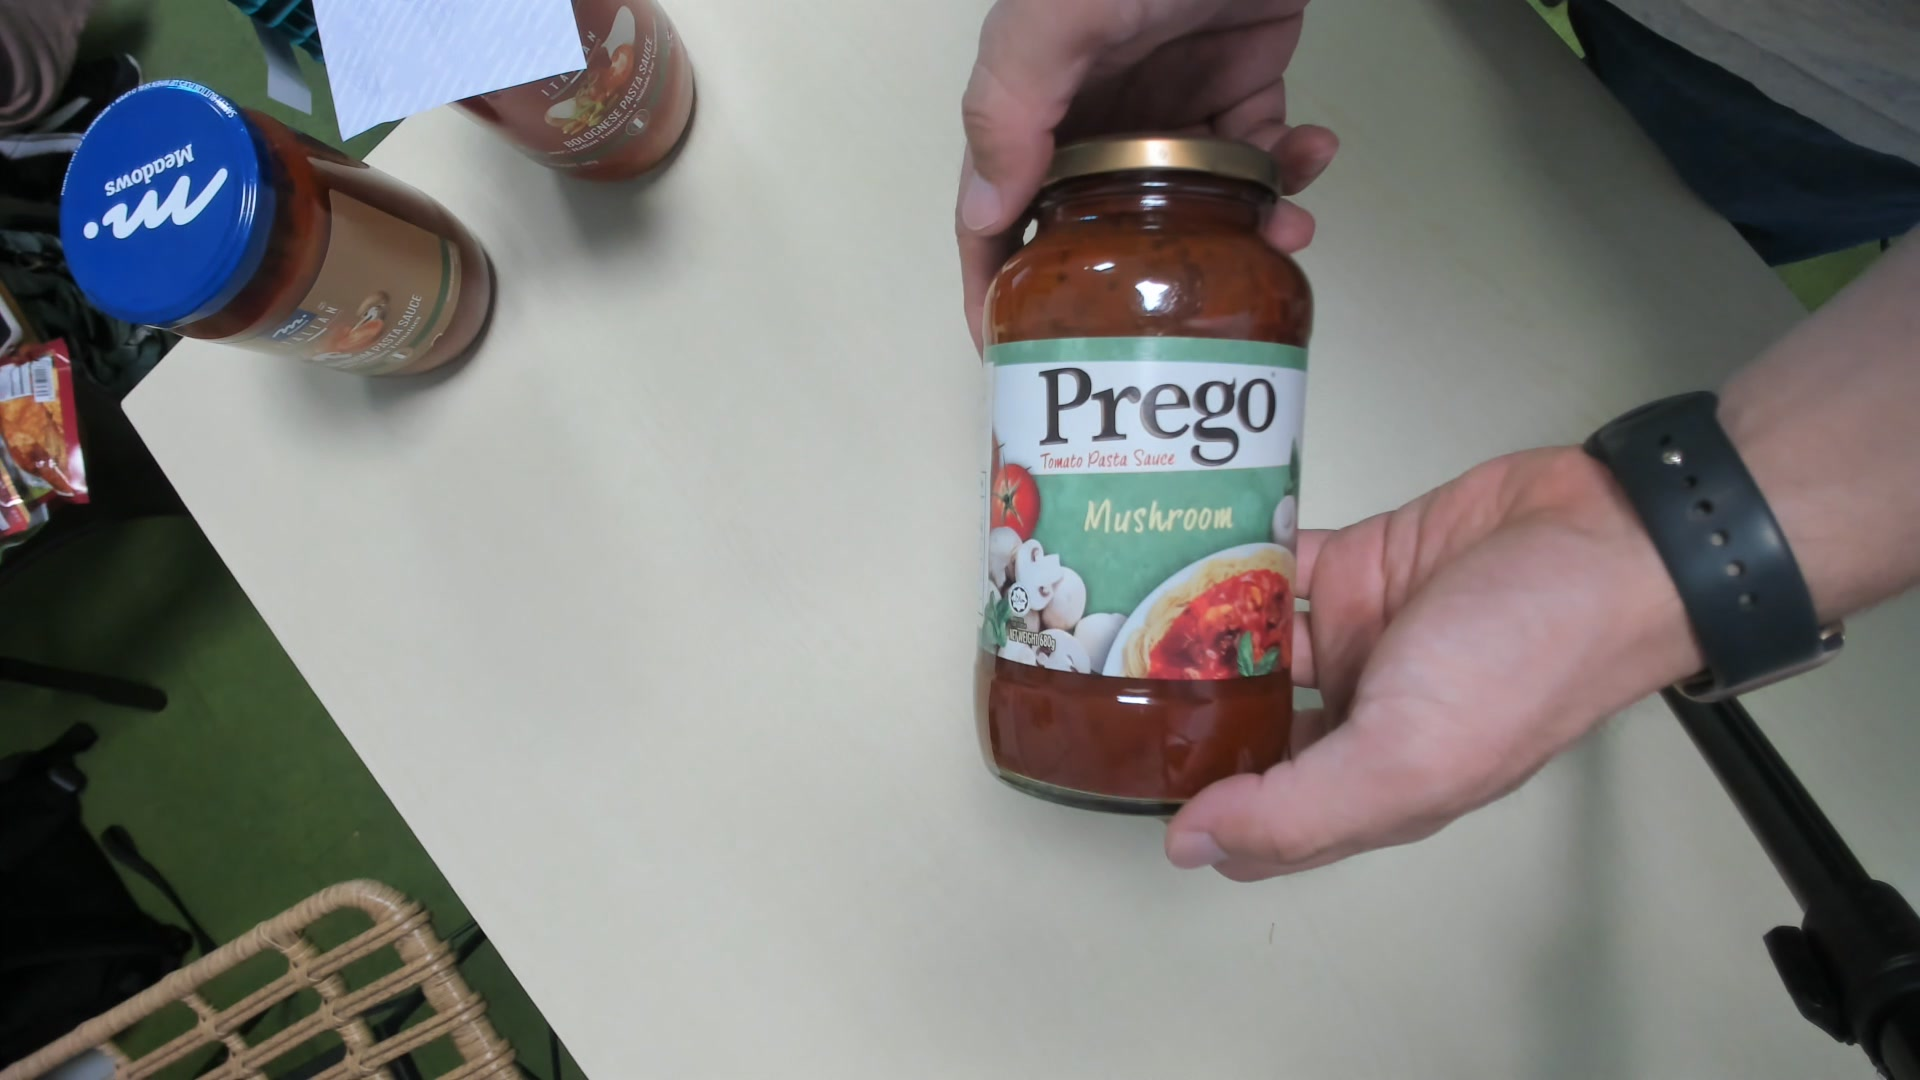PastaSauce_600-699g_Halal_NonHealthy: (977, 137, 1309, 806)
